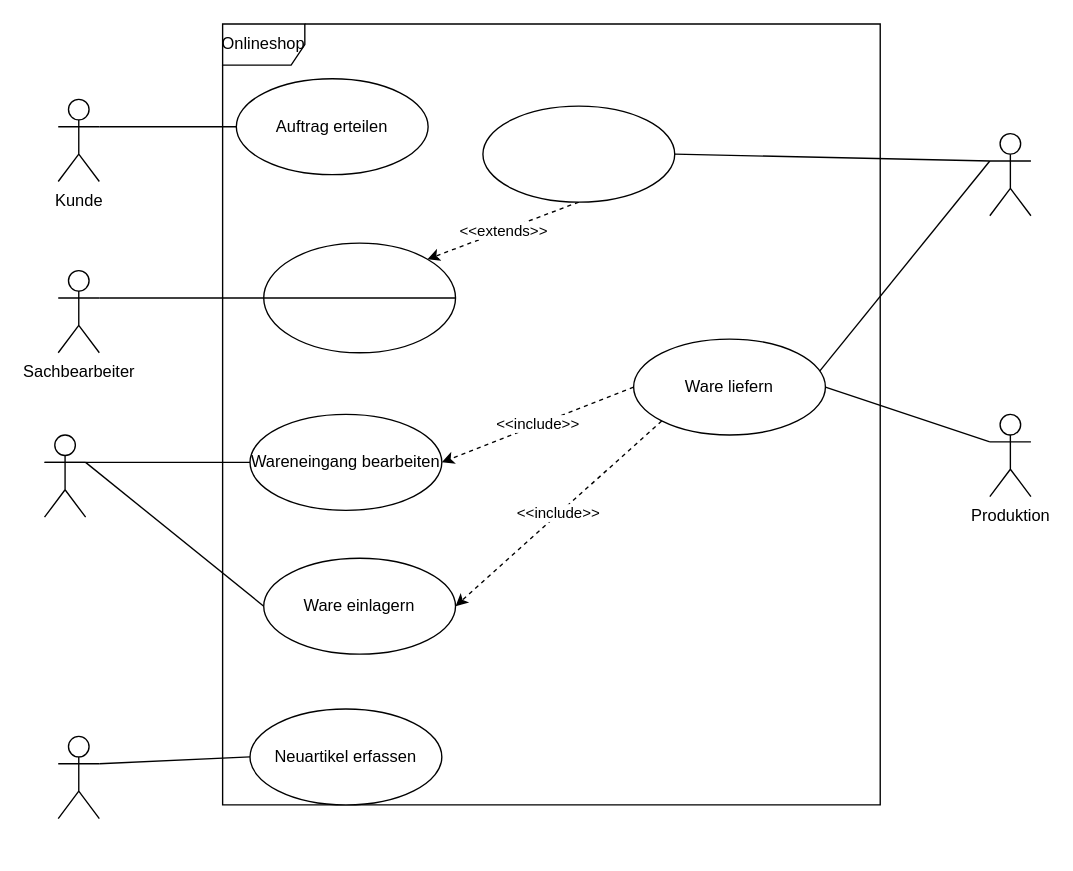
Image size: 1073x871. Some labels were removed from this diagram. The shapes that lost their labels are listed below. From the top down, each one's centre as x and y in pixels, then its label:
At point 578,153: "Ware bestellen".
At point 1009,174: "Lieferant".
At point 359,297: "Auftrag bearbeiten Ware nicht vorhanden".
At point 64,475: "Lagrist".
At point 78,777: "Hilfskraft".
